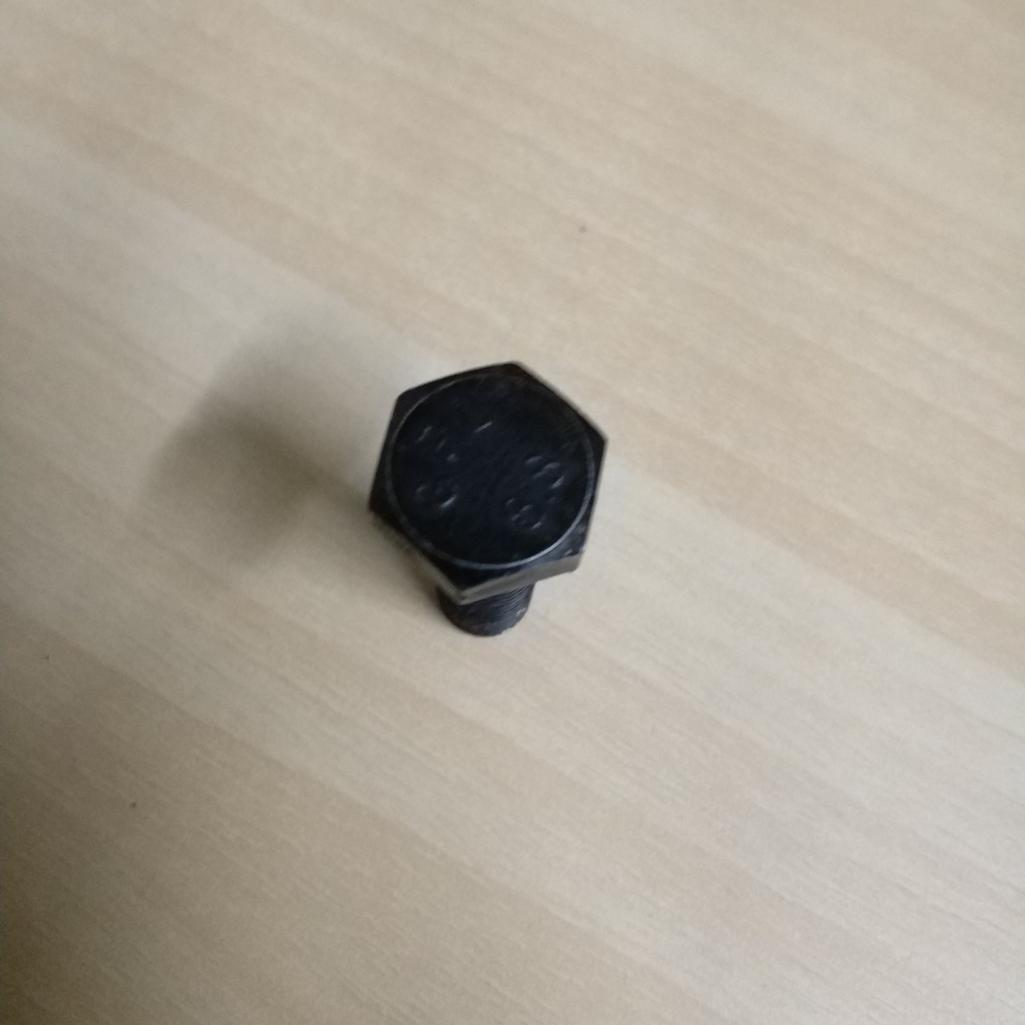screwtype2black: (353, 348, 612, 648)
